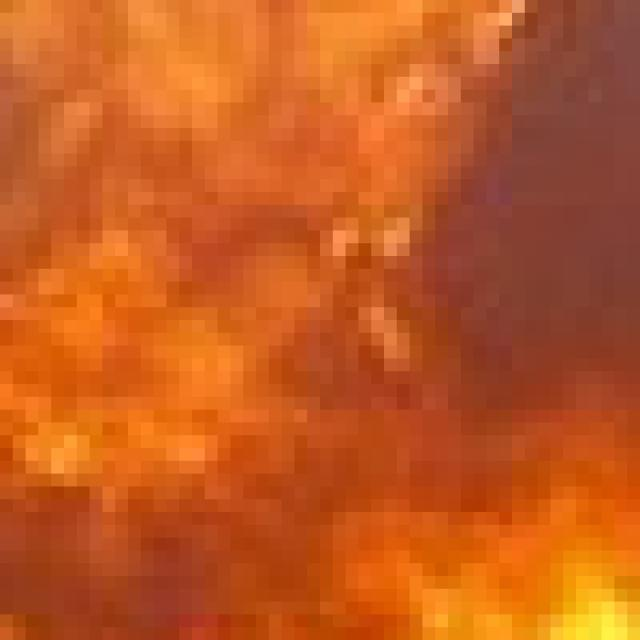fire: (7, 14, 640, 606)
